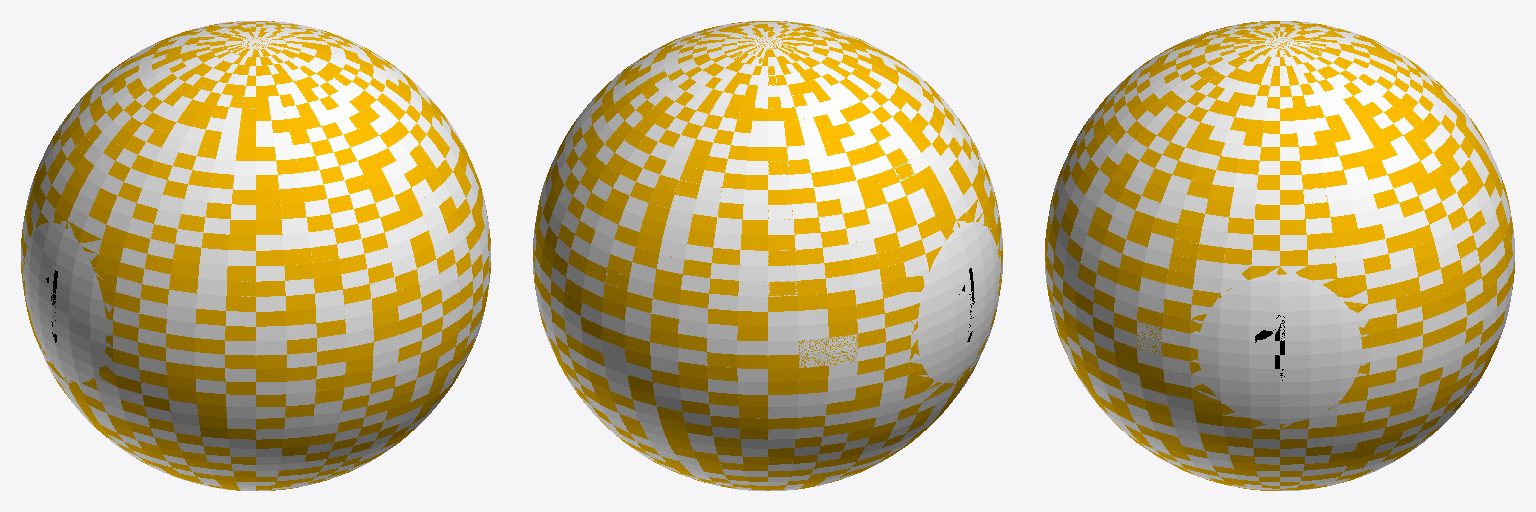
Rendered from ball_1.obj.
The picture shows the model from 3 angles: view 1: azimuth 30°, elevation 25°; view 2: azimuth 150°, elevation 25°; view 3: azimuth 270°, elevation 25°; orthographic projection.
Parts seen in each view (by area): view 1: Mesh1 G_1_Ball1 Component_1_1 Model; view 2: Mesh1 G_1_Ball1 Component_1_1 Model; view 3: Mesh1 G_1_Ball1 Component_1_1 Model.
Boxes of the visible parts, <box> form: Mesh1 G_1_Ball1 Component_1_1 Model: <box>21,21,490,490</box>; Mesh1 G_1_Ball1 Component_1_1 Model: <box>533,21,1002,490</box>; Mesh1 G_1_Ball1 Component_1_1 Model: <box>1045,21,1514,490</box>.
Size of the model in its own units: 0.0571 by 0.0571 by 0.057.